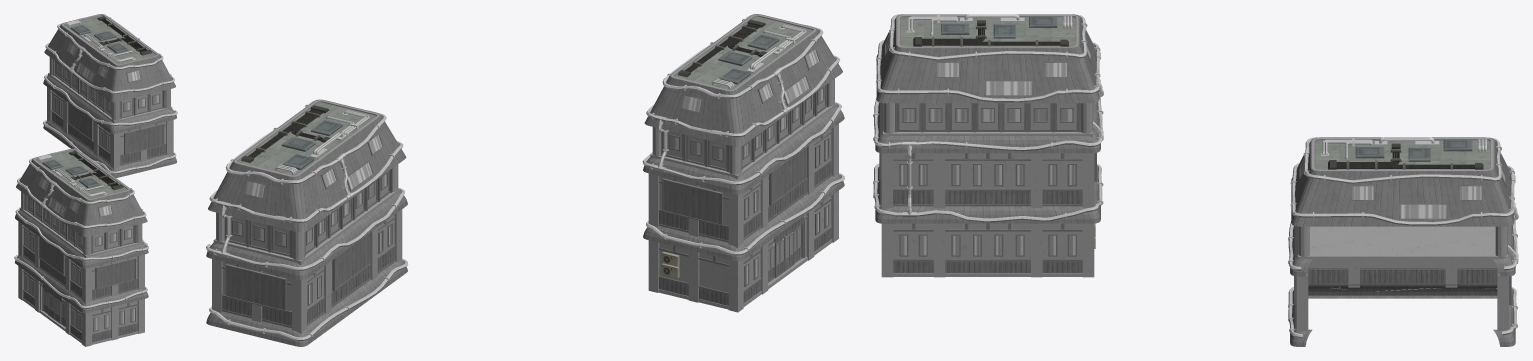
Rendered from MERGED_SM_ENV_KNVLLG_CommonBuilding_C_2.mo.fbx.
3 renders of one model, left to right at view 1: azimuth 30°, elevation 25°; view 2: azimuth 150°, elevation 25°; view 3: azimuth 270°, elevation 25°, orthographic. The views are drawn at different scales.
Visible parts, largest first — view 1: MERGED_SM_ENV_KNVLLG_CommonBuilding_C_2.mo; view 2: MERGED_SM_ENV_KNVLLG_CommonBuilding_C_2.mo; view 3: MERGED_SM_ENV_KNVLLG_CommonBuilding_C_2.mo.
Boxes of the visible parts, bbox=[...] form: MERGED_SM_ENV_KNVLLG_CommonBuilding_C_2.mo: bbox=[14, 14, 177, 346]; MERGED_SM_ENV_KNVLLG_CommonBuilding_C_2.mo: bbox=[206, 14, 844, 346]; MERGED_SM_ENV_KNVLLG_CommonBuilding_C_2.mo: bbox=[873, 14, 1518, 346].
Bounding box in the file's own units: 32.25 × 19.4 × 49.83.
